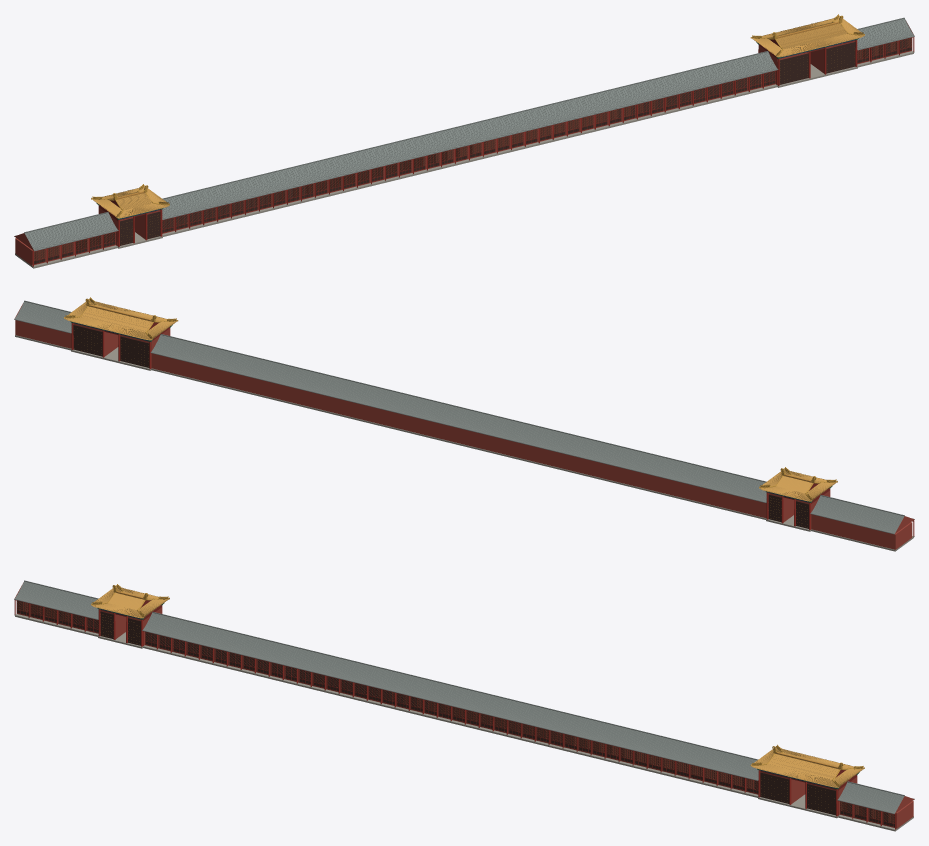
Rendered from axis-nw-detail.glb.
3 renders of one model, top to bottom at view 1: azimuth 30°, elevation 25°; view 2: azimuth 150°, elevation 25°; view 3: azimuth 330°, elevation 25°, orthographic.
Visible parts, largest first — view 1: axis-nw grayRoof.001, axis-nw grayTile.001, axis-nw wood.001, axis-nw lattice, axis-nw redDark.001, axis-nw stone.001, axis-nw wall.001, axis-nw tile.001, axis-nw red.001, axis-nw grayRidge.001, axis-nw gold.001; view 2: axis-nw grayRoof.001, axis-nw grayTile.001, axis-nw wall.001, axis-nw tile.001, axis-nw stone.001, axis-nw grayRidge.001, axis-nw wood.001, axis-nw red.001, axis-nw gold.001; view 3: axis-nw grayRoof.001, axis-nw grayTile.001, axis-nw wood.001, axis-nw lattice, axis-nw redDark.001, axis-nw stone.001, axis-nw tile.001, axis-nw wall.001, axis-nw red.001, axis-nw grayRidge.001, axis-nw gold.001.
Part boxes in pixels (x1,y1,x2,y2): axis-nw grayRoof.001: (24,18,913,250); axis-nw grayTile.001: (25,19,913,250); axis-nw wood.001: (34,38,911,263); axis-nw lattice: (34,38,911,260); axis-nw redDark.001: (32,38,911,264); axis-nw stone.001: (15,51,914,268); axis-nw wall.001: (14,21,914,265); axis-nw tile.001: (91,16,864,218); axis-nw red.001: (32,37,914,266); axis-nw grayRidge.001: (14,17,914,251); axis-nw gold.001: (91,14,864,217); axis-nw grayRoof.001: (15,301,904,533); axis-nw grayTile.001: (15,302,903,533); axis-nw wall.001: (14,304,914,549); axis-nw tile.001: (64,299,837,501); axis-nw stone.001: (15,335,914,551); axis-nw grayRidge.001: (14,300,914,534); axis-nw wood.001: (73,325,808,528); axis-nw red.001: (71,323,914,536); axis-nw gold.001: (64,297,837,500); axis-nw grayRoof.001: (15,581,904,813); axis-nw grayTile.001: (15,581,903,813); axis-nw wood.001: (17,601,894,826); axis-nw lattice: (17,601,894,823); axis-nw redDark.001: (17,600,896,827); axis-nw stone.001: (14,614,913,831); axis-nw tile.001: (91,586,864,787); axis-nw wall.001: (14,585,914,828); axis-nw red.001: (14,600,896,829); axis-nw grayRidge.001: (14,580,914,814); axis-nw gold.001: (91,584,864,786).
Bounding box in the file's own units: 2.56 × 0.1297 × 0.1328.
